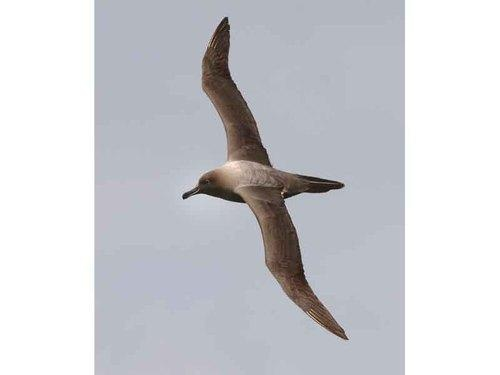bird: (183, 15, 351, 340)
